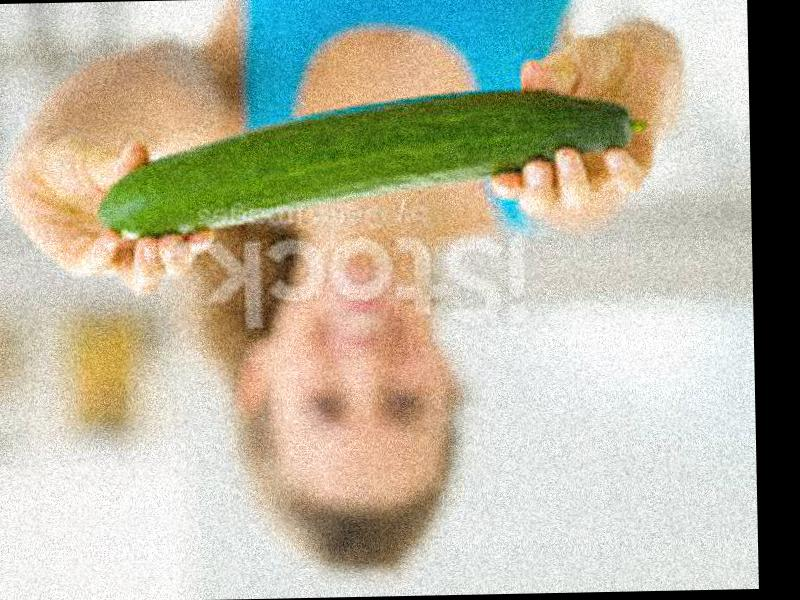Cucumber: (94, 87, 647, 232)
